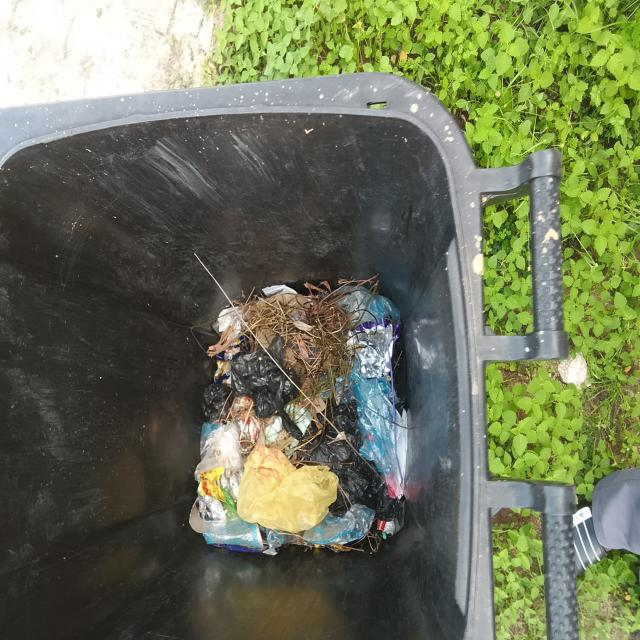half-full: (0, 79, 489, 639)
